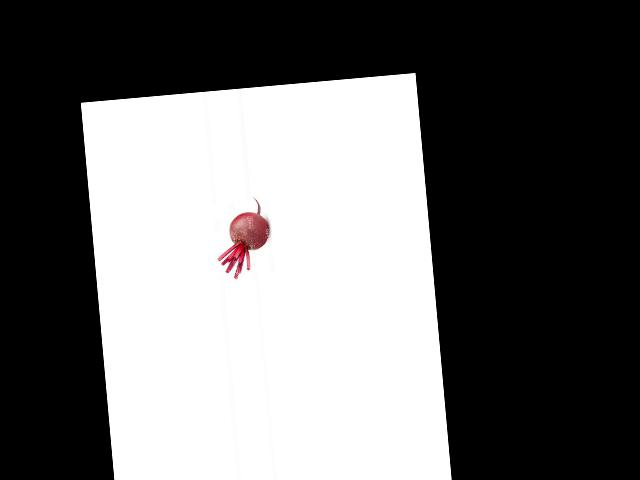beet: (212, 196, 272, 280)
